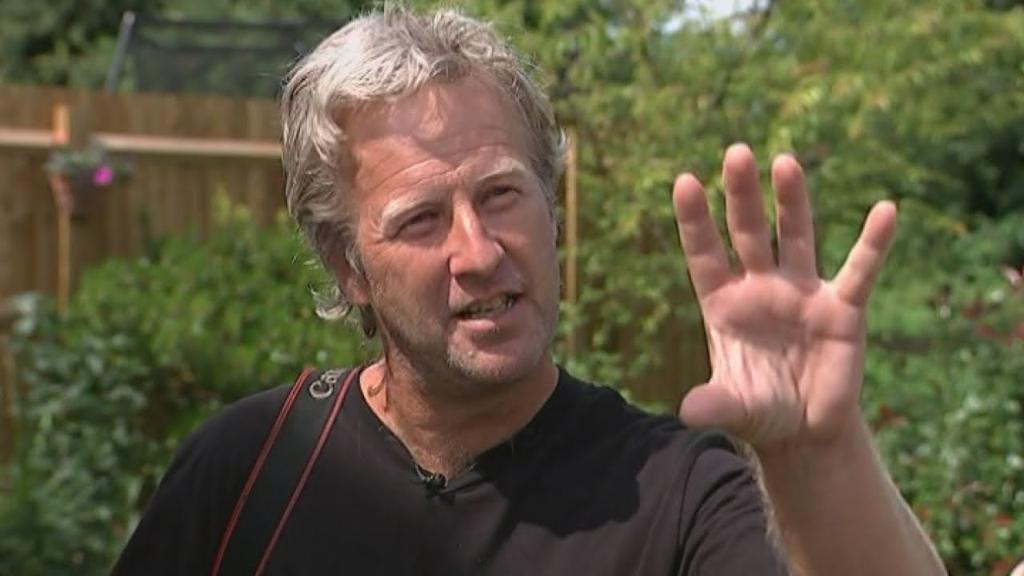face: (350, 88, 548, 388)
